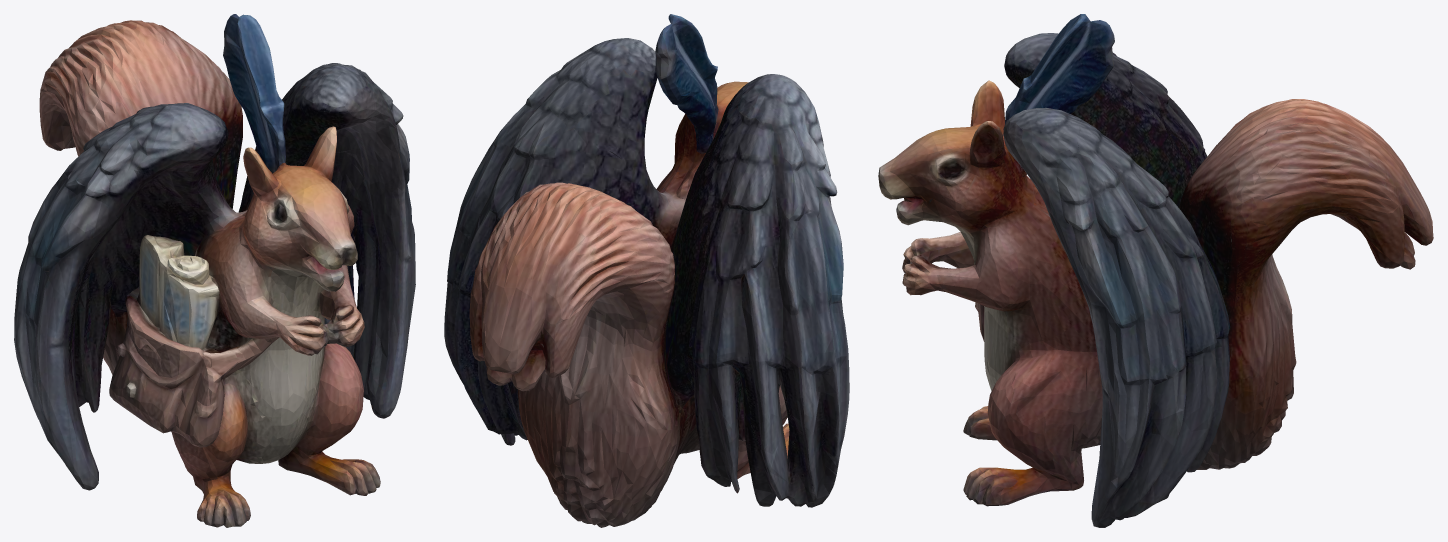
Rendered from quillshade__scrollrunner.glb.
3 renders of one model, left to right at view 1: azimuth 30°, elevation 25°; view 2: azimuth 150°, elevation 25°; view 3: azimuth 270°, elevation 25°, orthographic.
Parts seen in each view (by area): view 1: world; view 2: world; view 3: world.
Part boxes in pixels (bbox=[...]): world: bbox=[14, 14, 415, 527]; world: bbox=[444, 14, 849, 527]; world: bbox=[878, 14, 1433, 527].
Size of the model in its own units: 0.7986 by 0.8967 by 1.
1 material, 1 textured.
